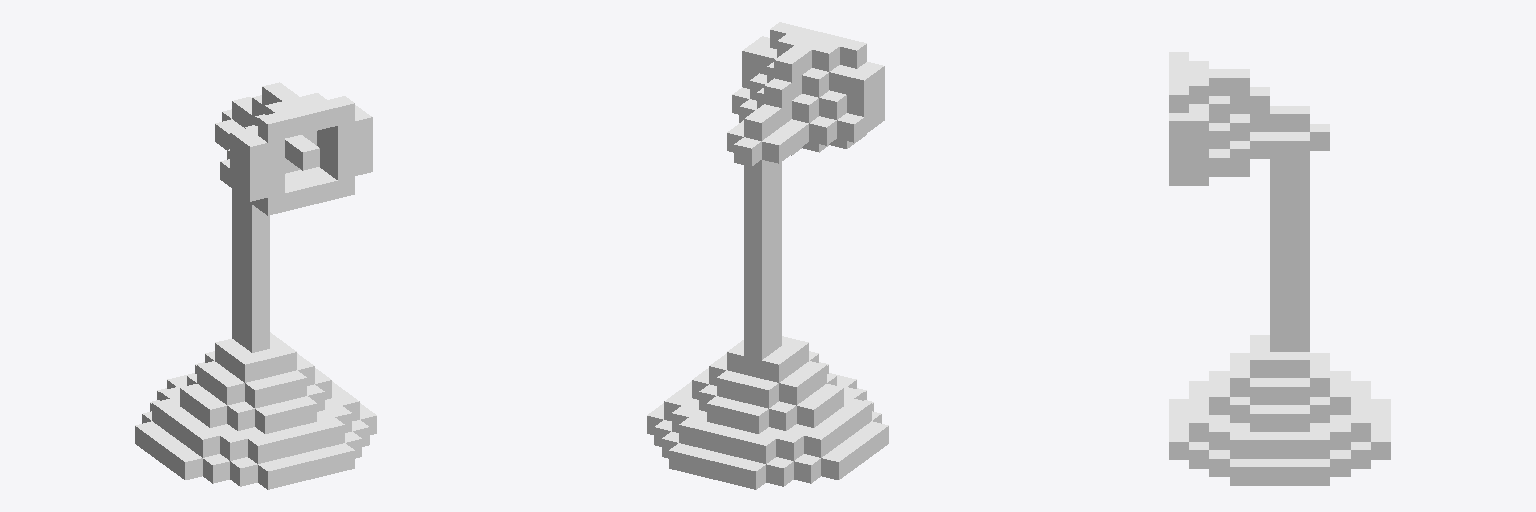
The model's file is alien1.obj.
3 renders of one model, left to right at view 1: azimuth 30°, elevation 25°; view 2: azimuth 150°, elevation 25°; view 3: azimuth 270°, elevation 25°, orthographic.
Visible parts, largest first — view 1: object 1; view 2: object 1; view 3: object 1.
Part boxes in pixels (bbox=[...]): object 1: bbox=[135, 82, 376, 489]; object 1: bbox=[647, 22, 888, 489]; object 1: bbox=[1169, 52, 1390, 485].
Size of the model in its own units: 1.1 by 2 by 1.1.